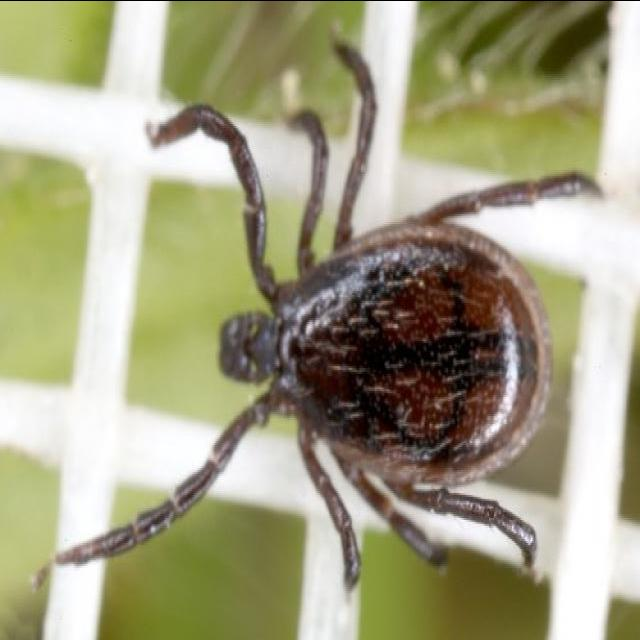Ixodes Ricinus-M: (54, 31, 605, 590)
